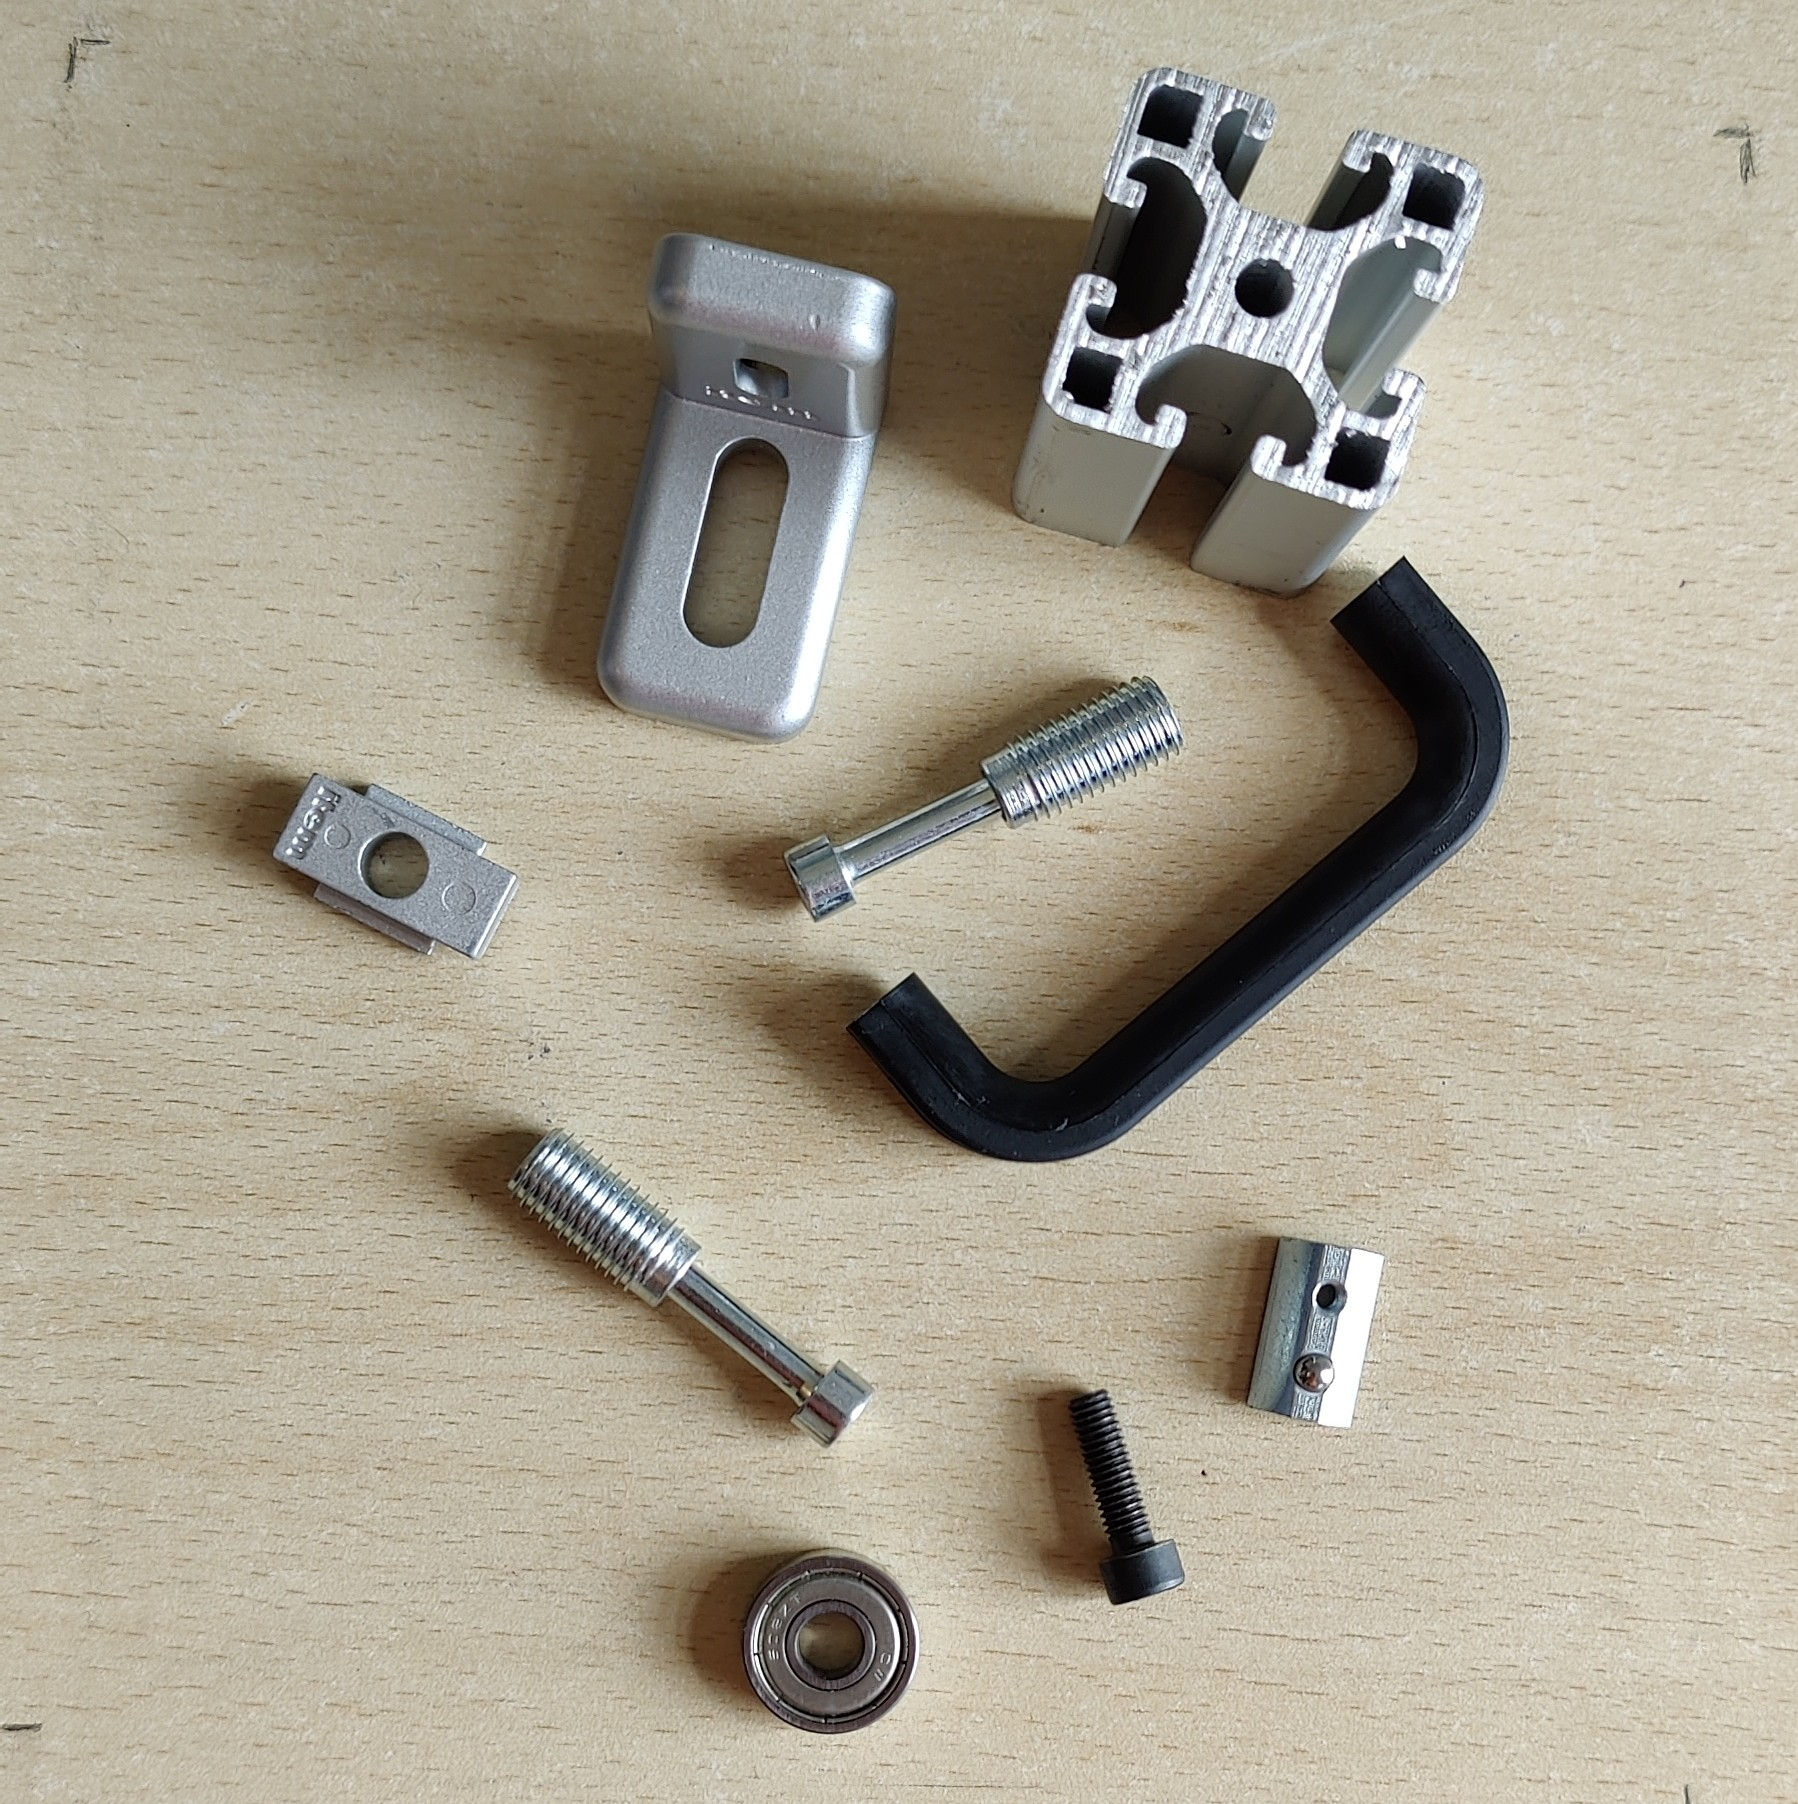Aluminium Extension: (1006, 63, 1480, 599)
Ball Bearing: (736, 1546, 920, 1738)
Multiwinkel: (593, 229, 901, 746)
Pull Handle: (846, 551, 1512, 1165)
Shoulder Socket Head Cap Screw: (501, 1127, 879, 1448), (780, 672, 1187, 923)
Socket Head Cap Screw: (1065, 1384, 1189, 1606)
T Nut Square: (270, 770, 529, 961)
T Spring Nut: (1240, 1234, 1388, 1434)
